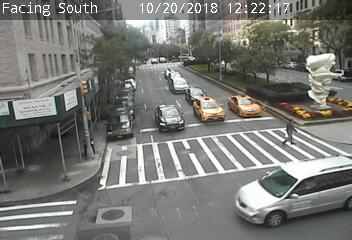car: (154, 104, 185, 132), (194, 97, 225, 122), (228, 94, 261, 117), (184, 87, 207, 104), (169, 76, 190, 93), (168, 72, 181, 82), (164, 68, 175, 79)
